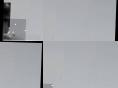ironball: (1, 18, 25, 41)
